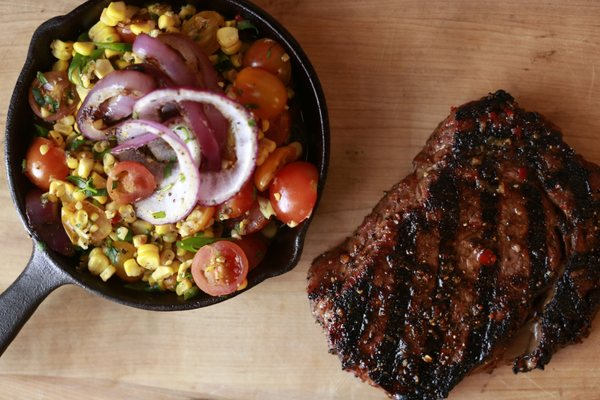sushi: (1, 0, 330, 327)
